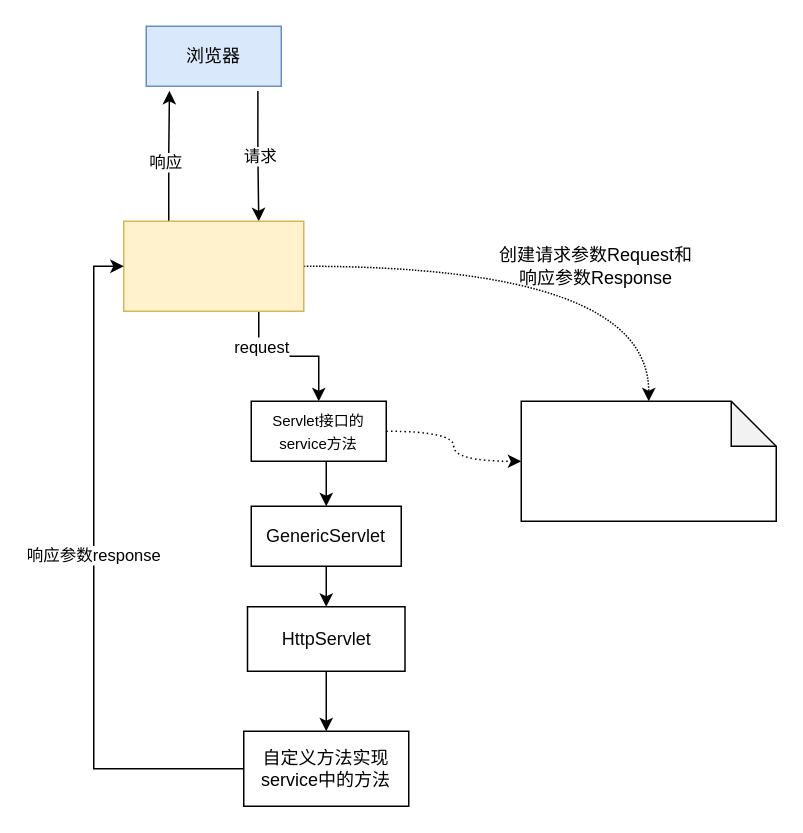
Image size: 803x833. Some labels were removed from this diagram. Here are the shapes that lost their labels. From the top down, the centre of each, then its label:
At [213,265]: "Tomcat服务器".
At [648,460]: "void service ( ServletRequest req, ServletResponse res)".
